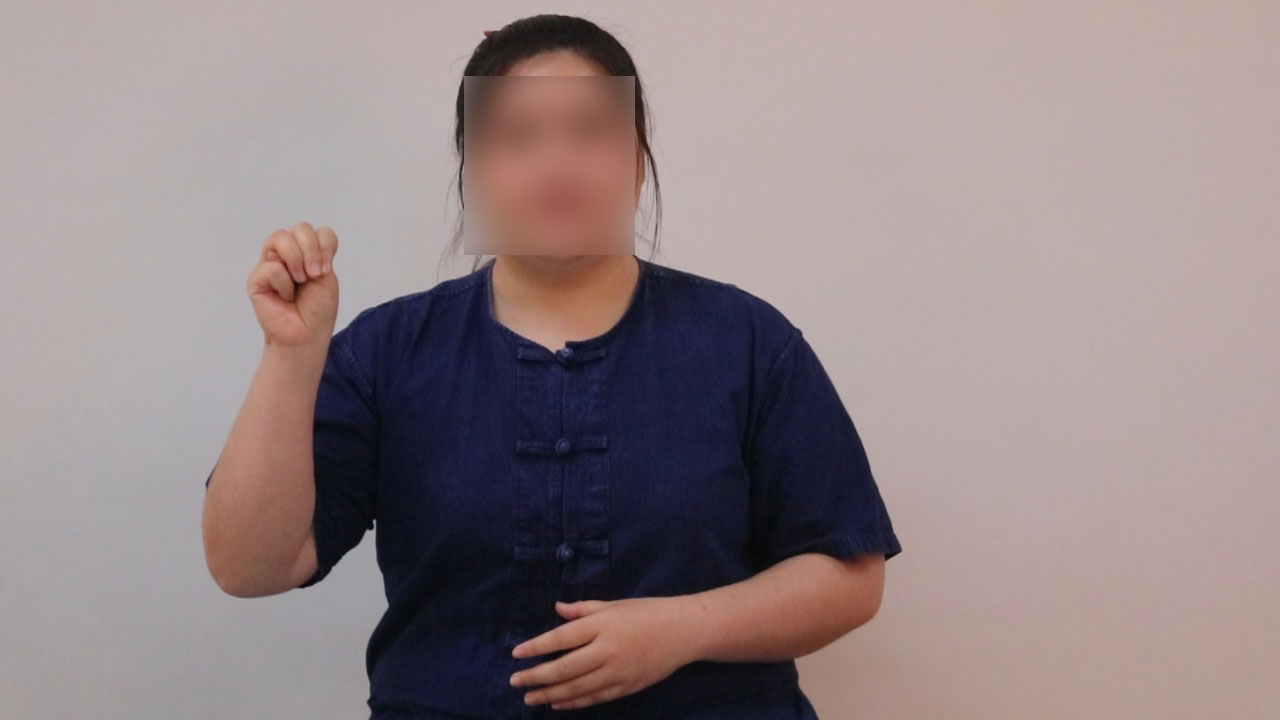mor: (244, 199, 347, 356)
